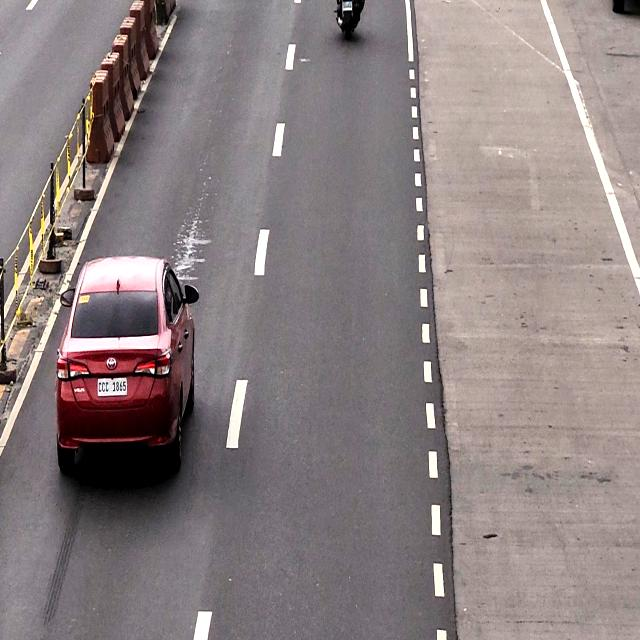License-Plate: (96, 378, 129, 396)
Motorcycle: (56, 258, 198, 467)
